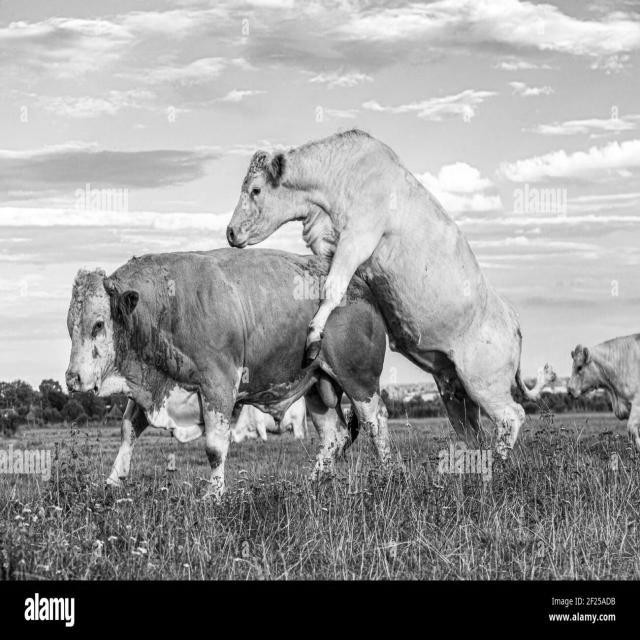cow: (226, 130, 554, 456), (66, 249, 388, 497)
